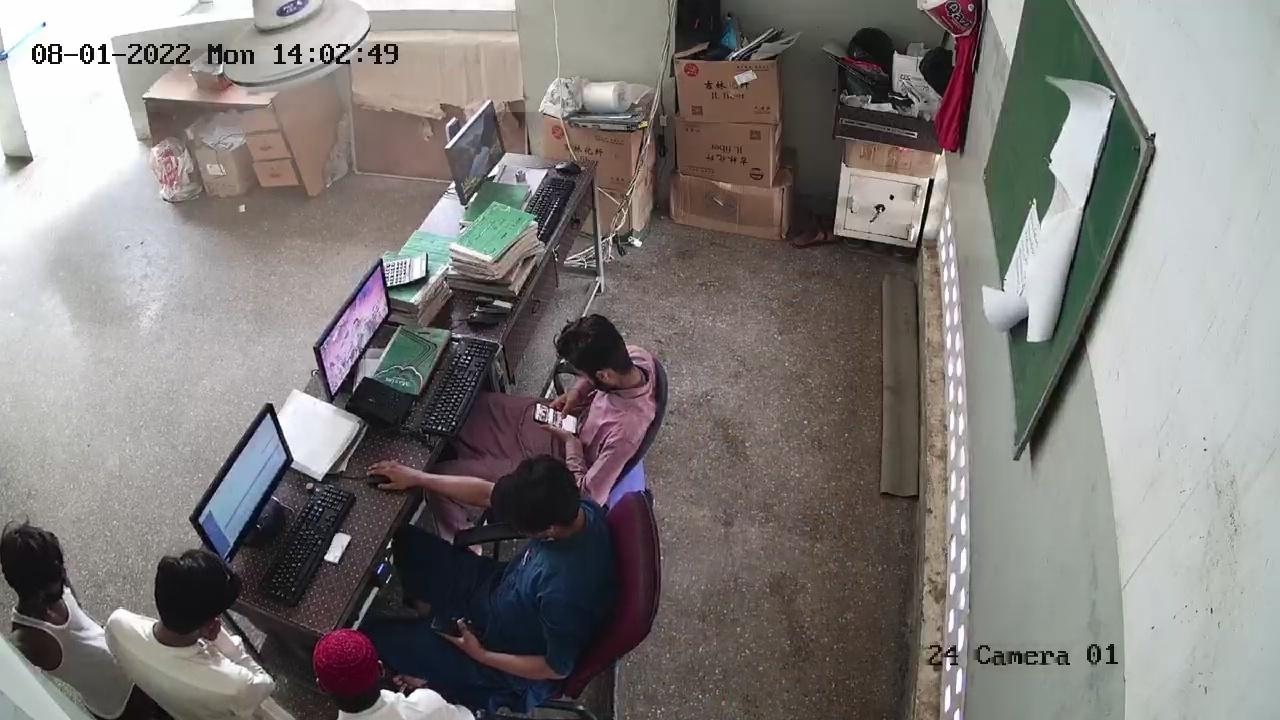person: (399, 465, 612, 663), (469, 312, 671, 483), (9, 515, 145, 710), (119, 550, 267, 720), (294, 643, 450, 720)
